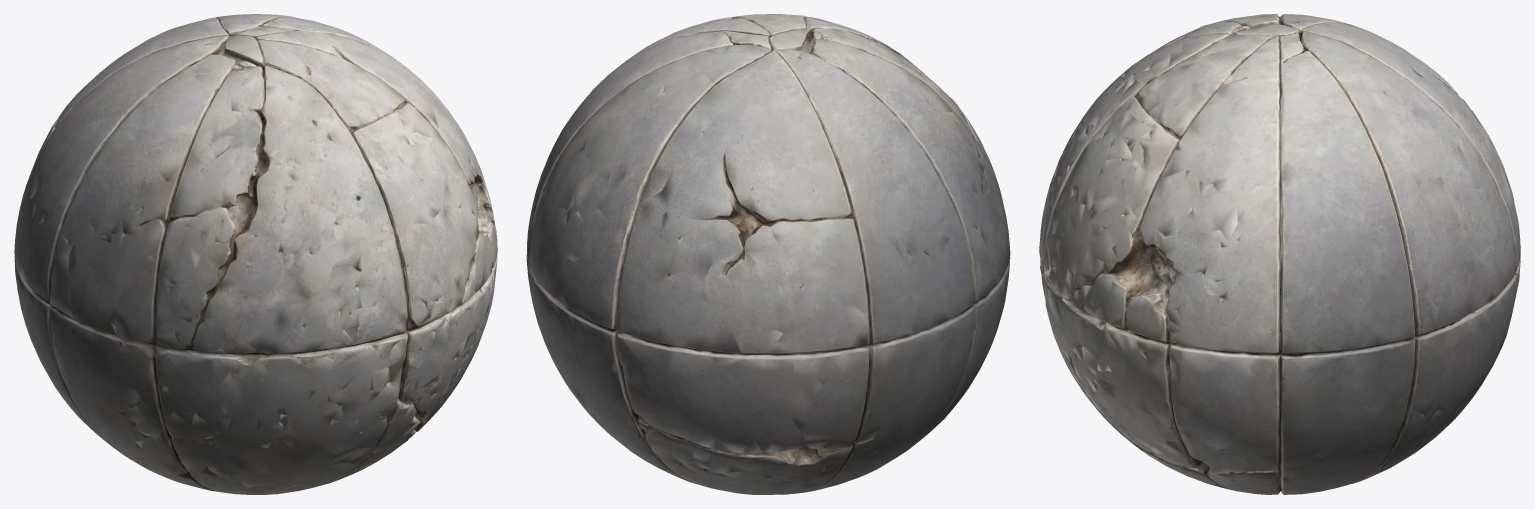
The model's file is esfera.glb.
3 renders of one model, left to right at view 1: azimuth 30°, elevation 25°; view 2: azimuth 150°, elevation 25°; view 3: azimuth 270°, elevation 25°, orthographic.
Visible parts, largest first — view 1: tripo_node_0dfe0dd9-b517-4912-819c-4c973f862a0a; view 2: tripo_node_0dfe0dd9-b517-4912-819c-4c973f862a0a; view 3: tripo_node_0dfe0dd9-b517-4912-819c-4c973f862a0a.
Part boxes in pixels (left/top/right/bottom): tripo_node_0dfe0dd9-b517-4912-819c-4c973f862a0a: left=14, top=14, right=497, bottom=494; tripo_node_0dfe0dd9-b517-4912-819c-4c973f862a0a: left=526, top=14, right=1010, bottom=494; tripo_node_0dfe0dd9-b517-4912-819c-4c973f862a0a: left=1039, top=14, right=1520, bottom=494.
Bounding box in the file's own units: 0.9951 × 0.9996 × 0.9985.
1 material, 1 textured.
